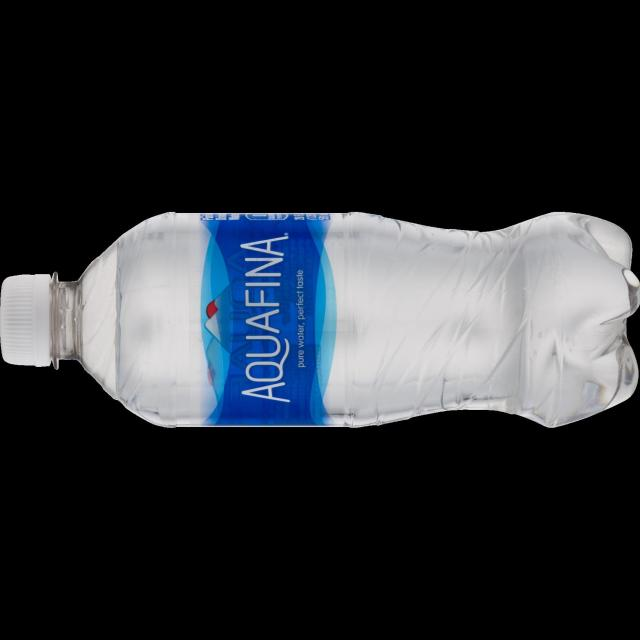plastic: (0, 212, 640, 427)
